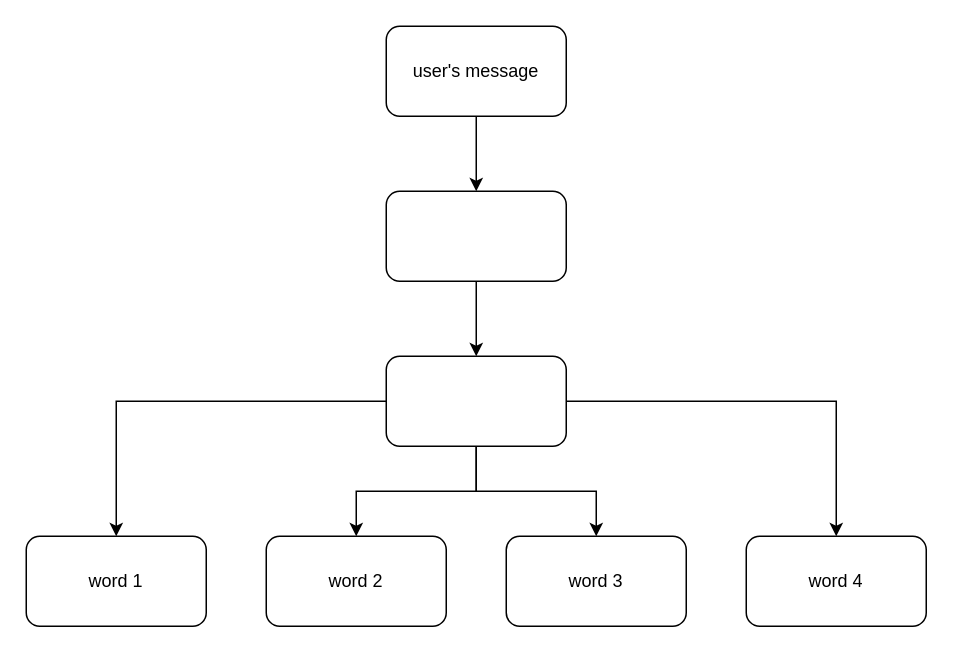
Some shapes in this 953 by 653 pixel diagram are drawn without their labels. Here are the shapes that lost their labels. From the top down, the centre of each, then its label:
(475,235): tokenizer
(475,400): stemmer
